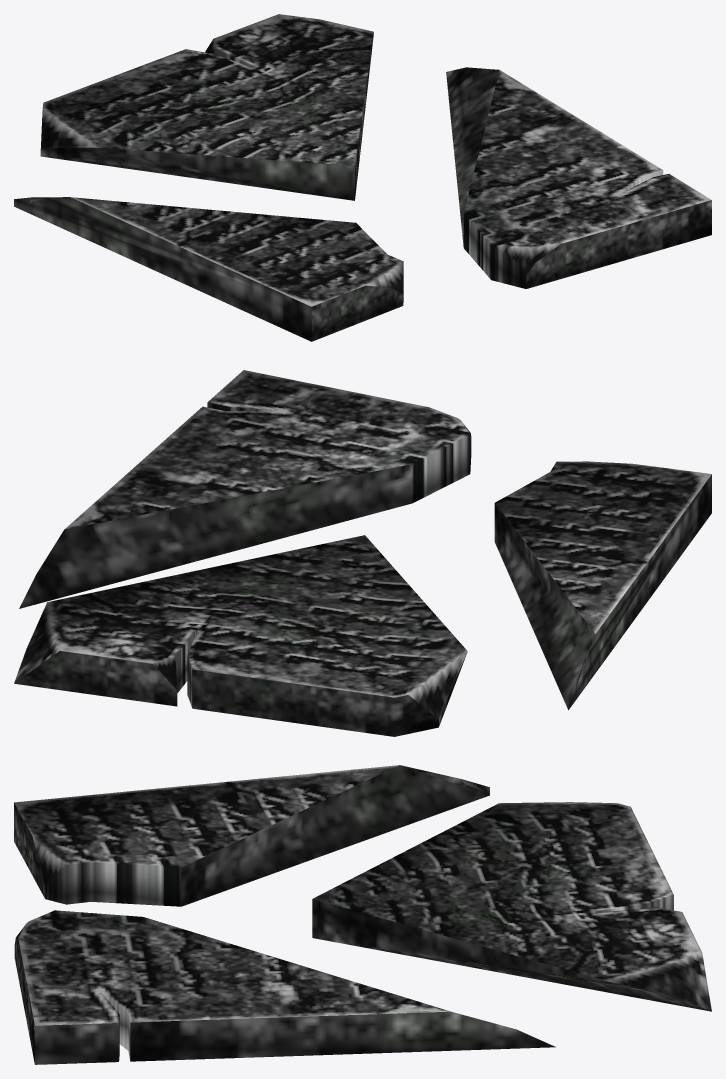
The model's file is GS_MISC_CRACKED_STONEPLATE_03_GALI.glb.
The picture shows the model from 3 angles, top to bottom: view 1: azimuth 30°, elevation 25°; view 2: azimuth 150°, elevation 25°; view 3: azimuth 270°, elevation 25°; orthographic projection. The views are drawn at different scales.
Parts seen in each view (by area): view 1: Mesh; view 2: Mesh; view 3: Mesh.
Boxes of the visible parts, x1,y1,x2,y2 form: Mesh: (14, 14, 711, 341); Mesh: (14, 370, 711, 736); Mesh: (14, 765, 711, 1064).
Size of the model in its own units: 0.673 by 0.0456 by 0.7369.
Materials: 1 (1 with a texture image).
